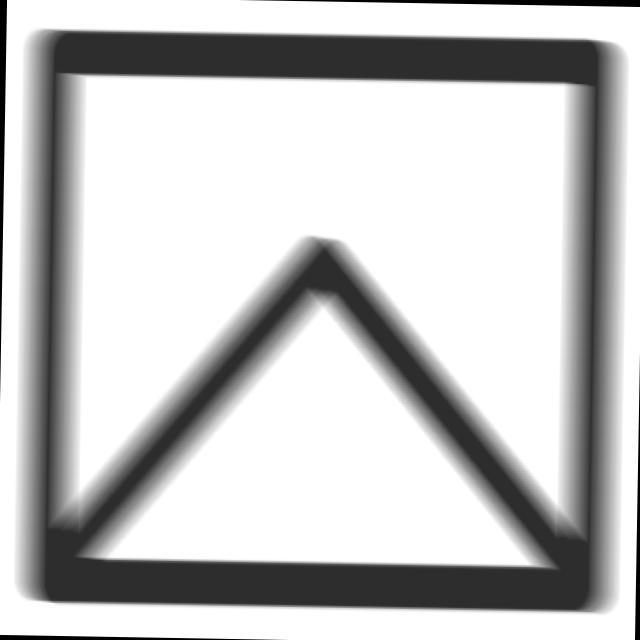letter: (10, 17, 634, 624)
